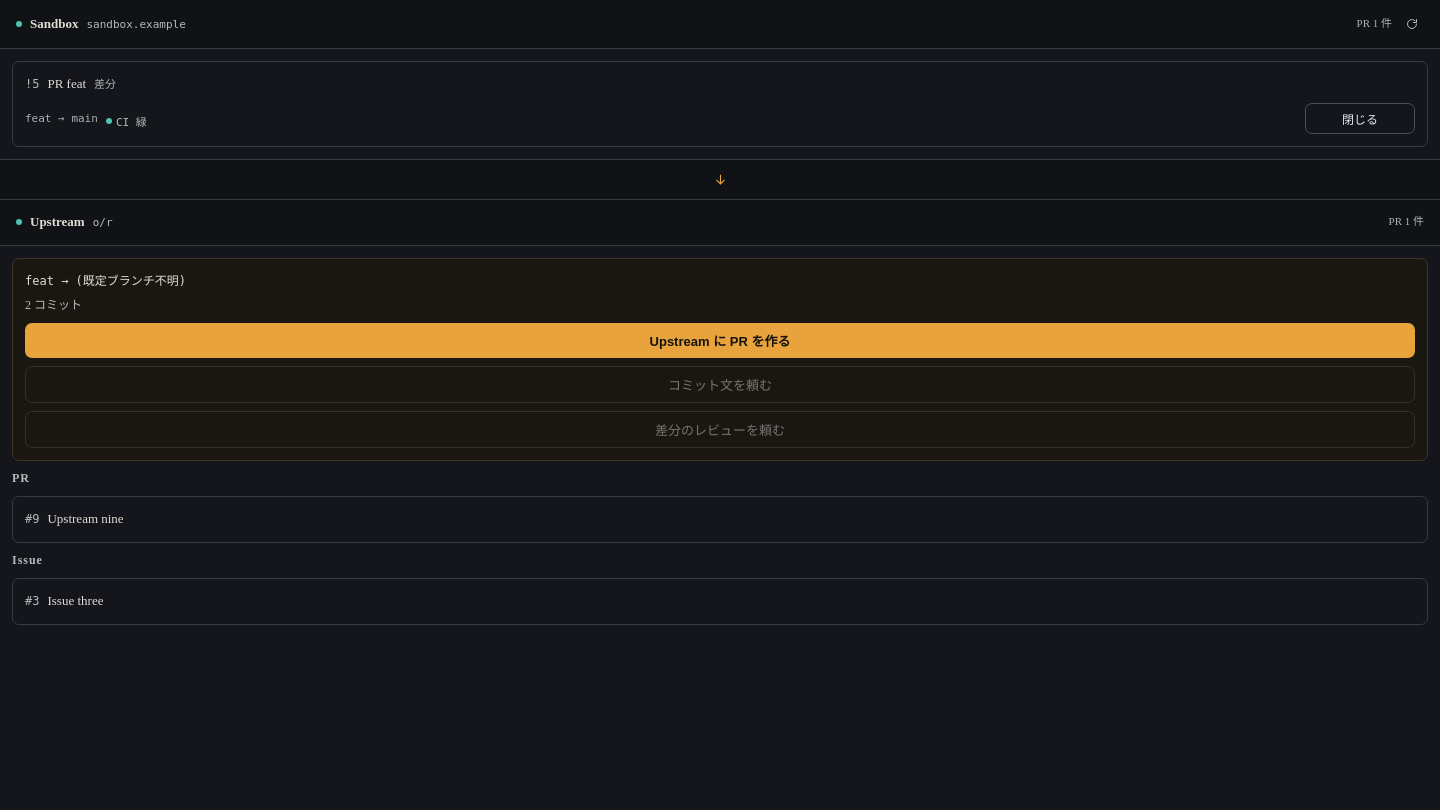
Test: Forge › sandbox の PR は閉じられる。マージはしない
This screenshot has width=1440, height=810.
Expected: the text "PR feat" is shown, [48,74,86,95]
Click the button "閉じる": (1360,118) [1305,103,1415,134]
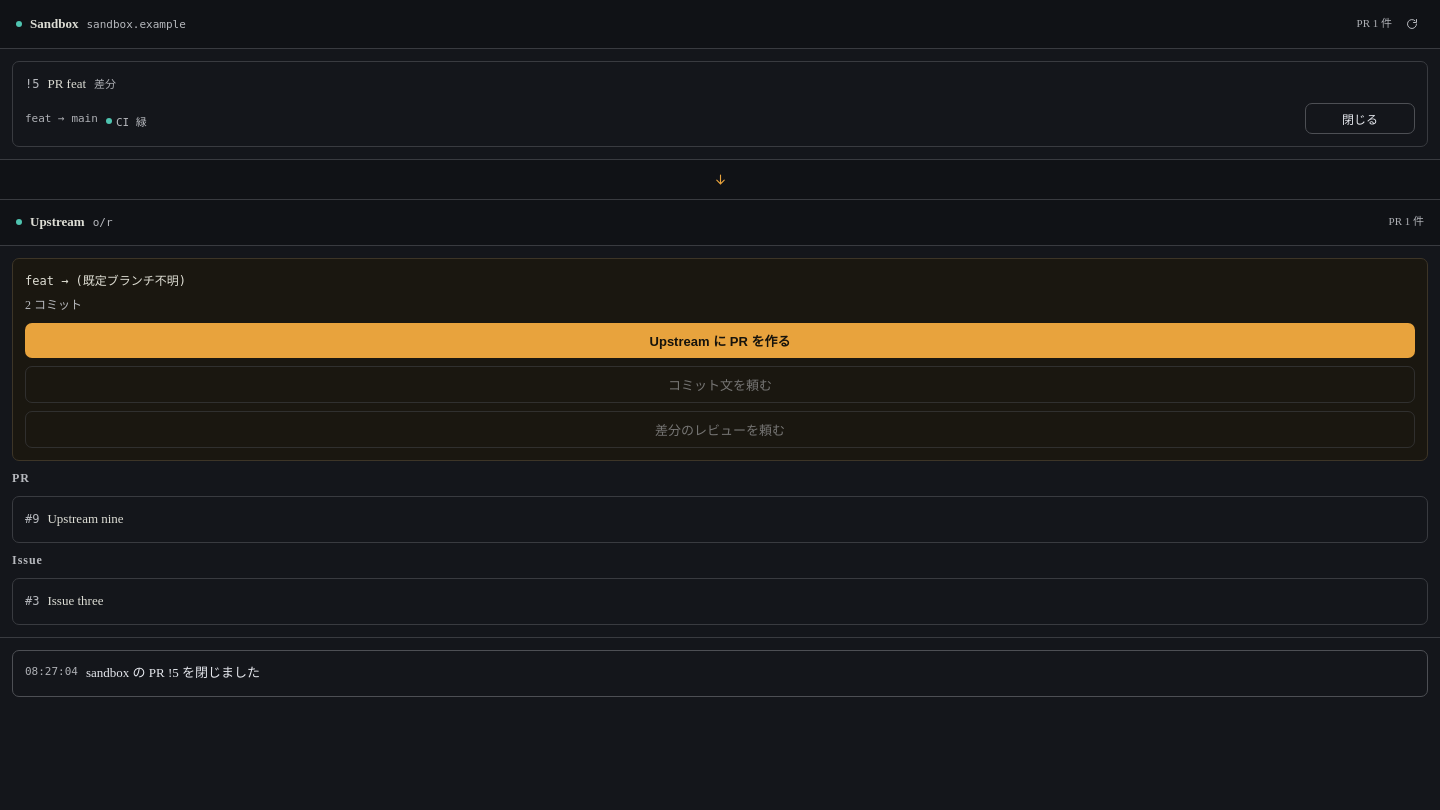
Expected: the text "sandbox の PR !5 を閉じました" is shown, [86,663,260,684]
